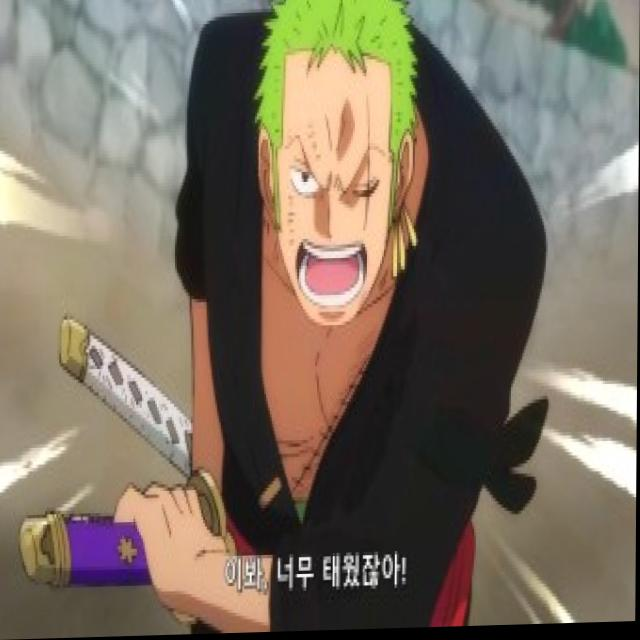Zoro: (168, 0, 561, 636)
